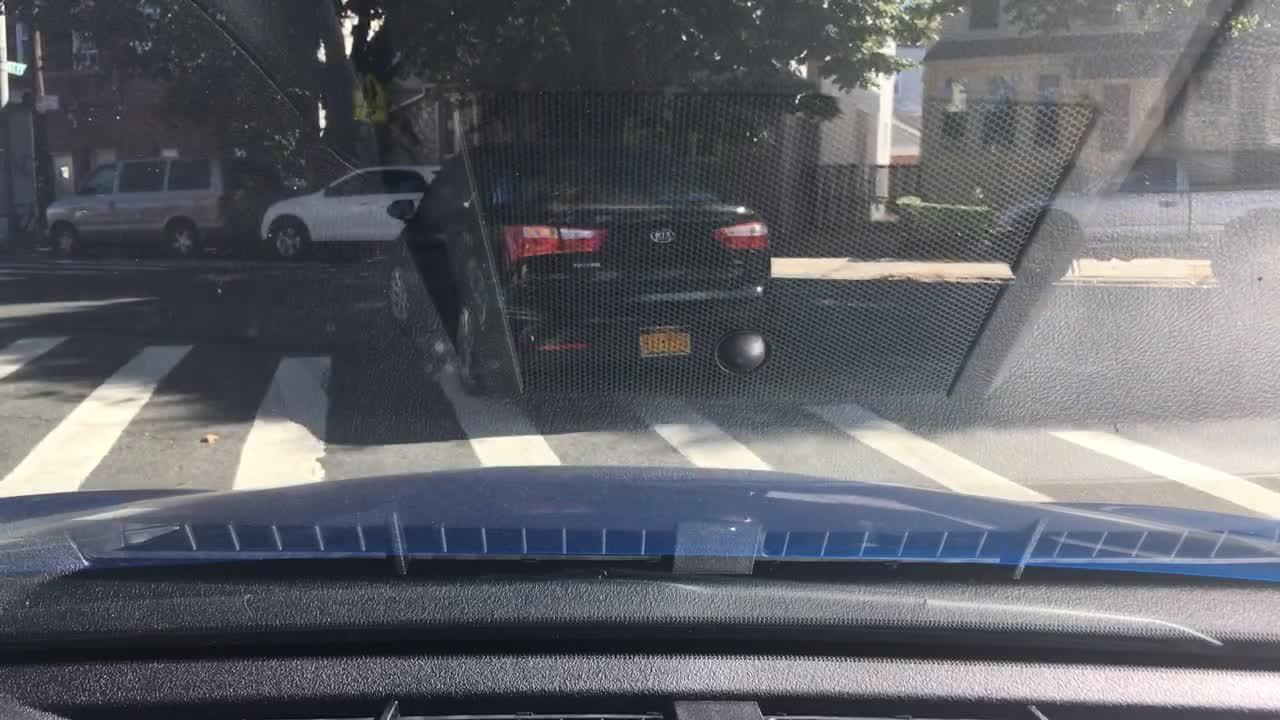kia: (644, 223, 686, 248)
